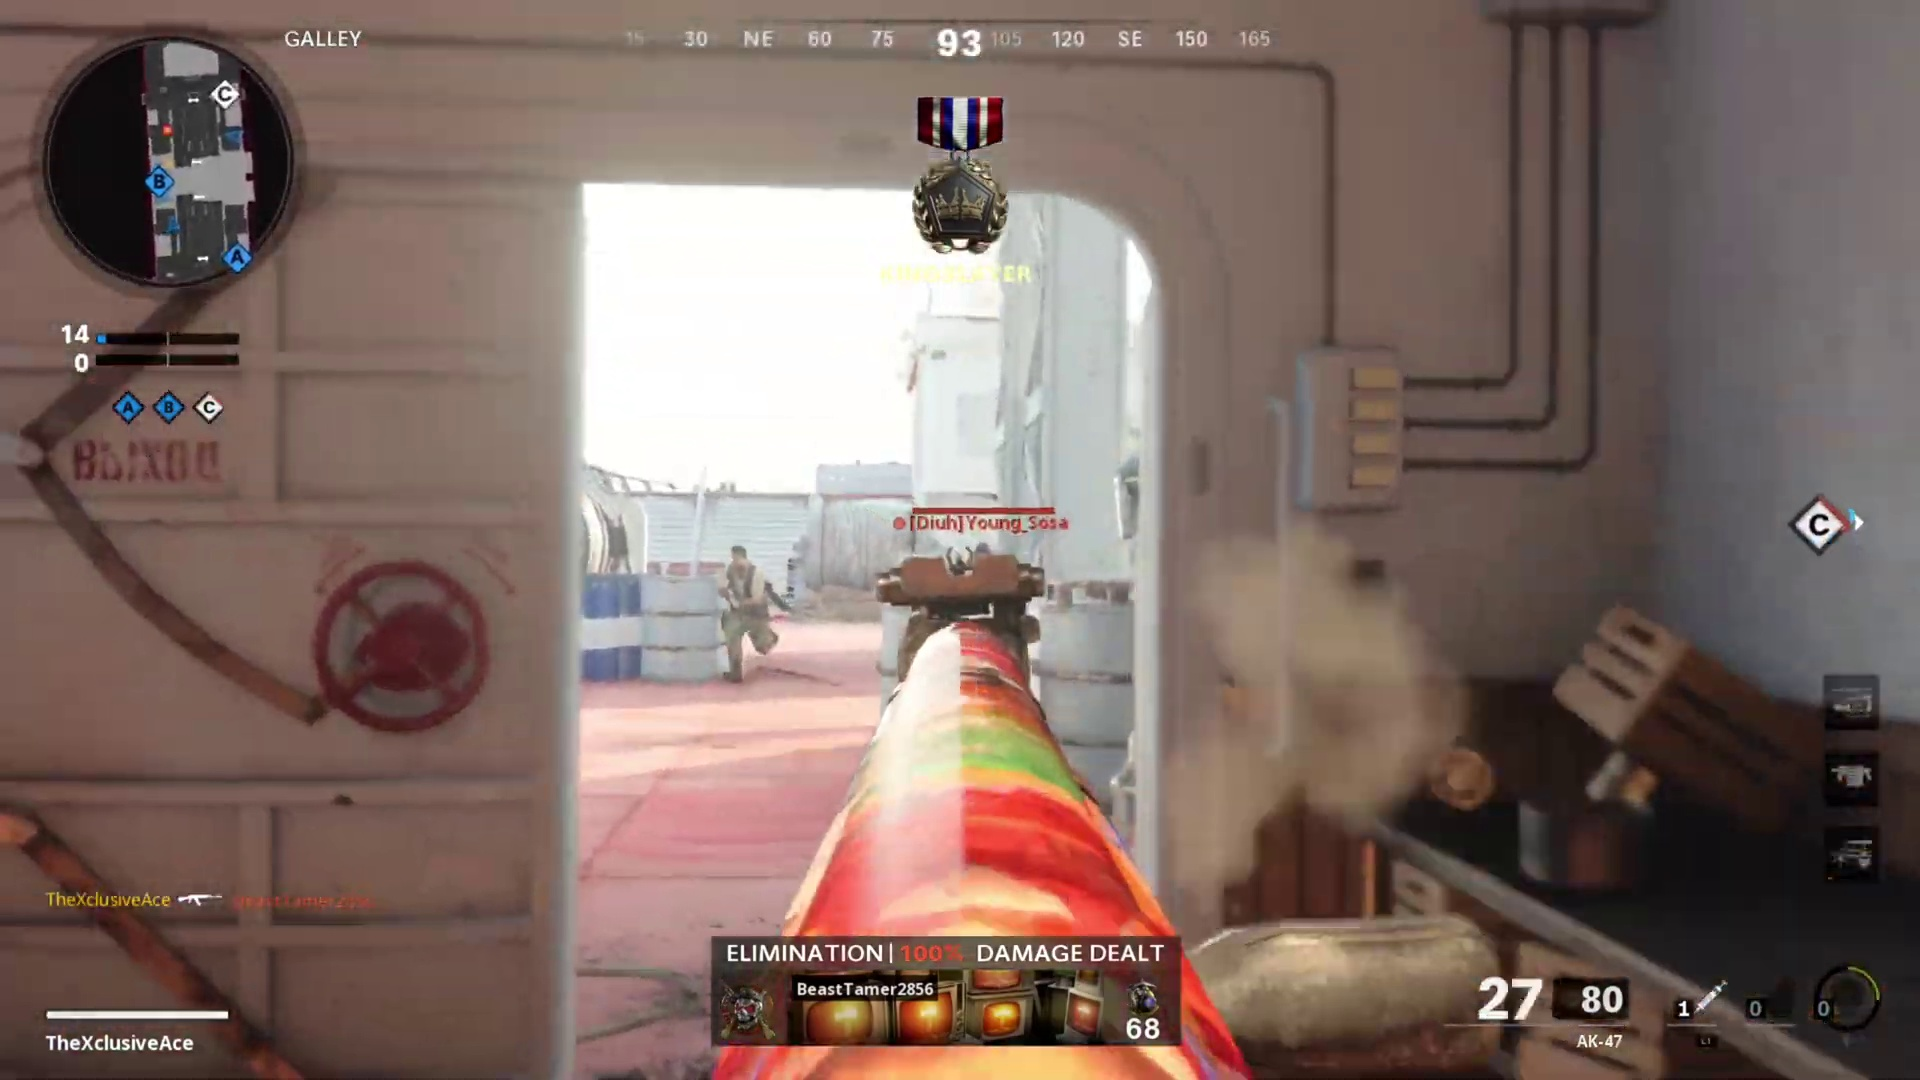head: (729, 540, 751, 573)
person: (713, 543, 785, 684)
